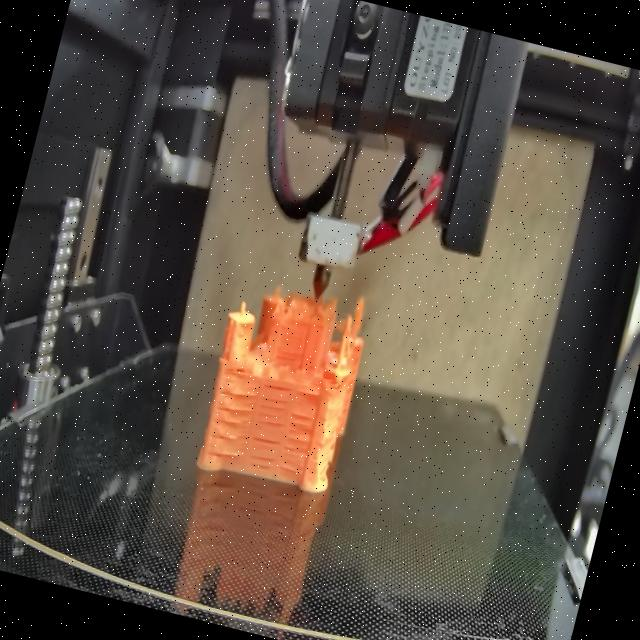cracks: (206, 386, 256, 462), (274, 408, 316, 480), (251, 380, 292, 433), (244, 436, 278, 470), (276, 343, 302, 366), (292, 386, 320, 402), (231, 361, 250, 374)
